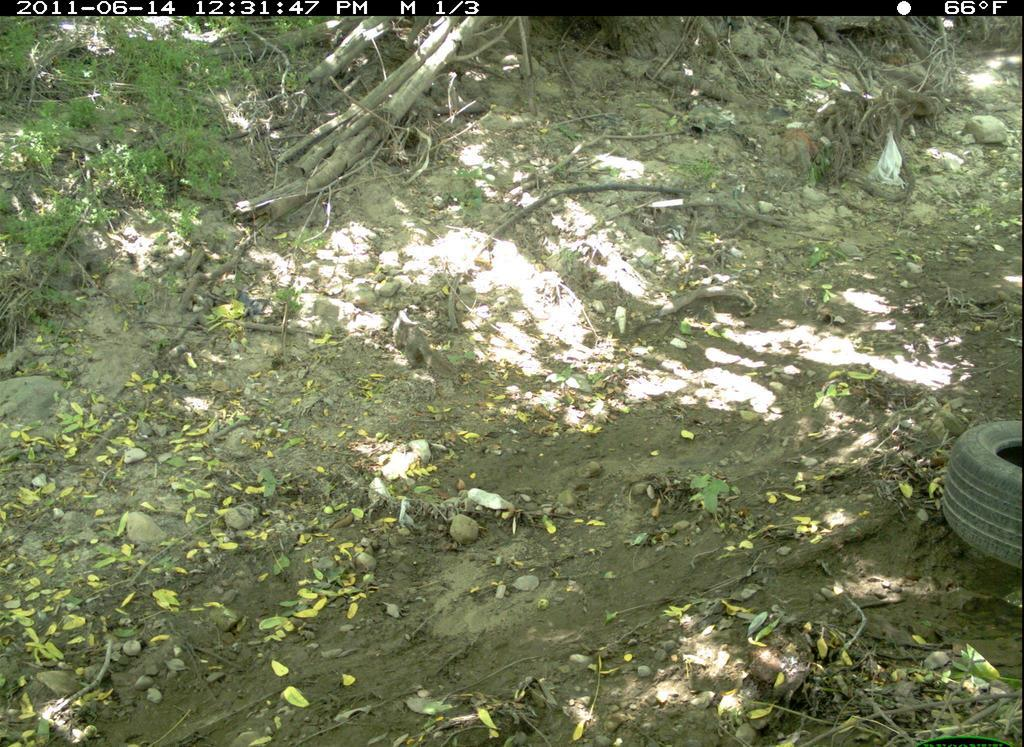squirrel: (392, 306, 460, 384)
